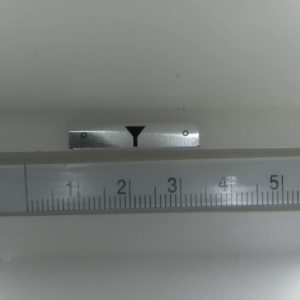1: (66, 181, 72, 195)
2: (116, 178, 126, 194)
3: (166, 177, 176, 193)
4: (215, 178, 225, 191)
5: (269, 175, 278, 190)
finger: (123, 126, 145, 149)
